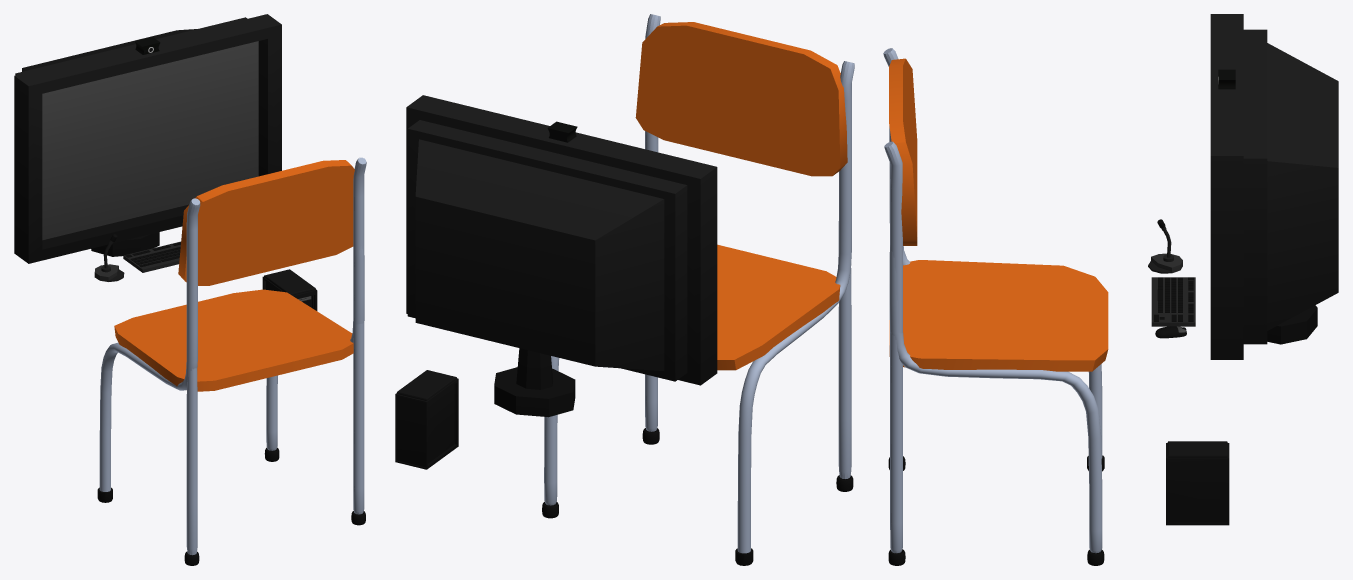
File: Pack2Simulator.fbx
3 renders of one model, left to right at view 1: azimuth 30°, elevation 25°; view 2: azimuth 150°, elevation 25°; view 3: azimuth 270°, elevation 25°, orthographic. The views are drawn at different scales.
Visible parts, largest first — view 1: Cylinder.003, Plane.001, Cylinder, Cylinder.007, Cube.021, Cube.002; view 2: Cylinder, Plane.001, Cylinder.007, Cube.021; view 3: Cylinder, Plane.001, Cylinder.007, Cube.021, Cube.002, Cube.015.
Part boxes in pixels (box(x1,y1,x2,y2)): Cylinder.003: box(42, 41, 258, 240); Plane.001: box(114, 160, 354, 391); Cylinder: box(14, 14, 281, 263); Cylinder.007: box(99, 157, 366, 555); Cube.021: box(262, 269, 317, 310); Cube.002: box(123, 241, 180, 272); Cylinder: box(406, 95, 717, 417); Plane.001: box(635, 22, 847, 370); Cylinder.007: box(544, 14, 854, 553); Cube.021: box(395, 370, 458, 469); Cylinder: box(1210, 14, 1338, 359); Plane.001: box(889, 58, 1108, 371); Cylinder.007: box(883, 48, 1102, 553); Cube.021: box(1166, 441, 1229, 525); Cube.002: box(1151, 277, 1195, 326); Cube.015: box(1165, 277, 1182, 312).
Bounding box in the file's own units: 136 × 190 × 174.
